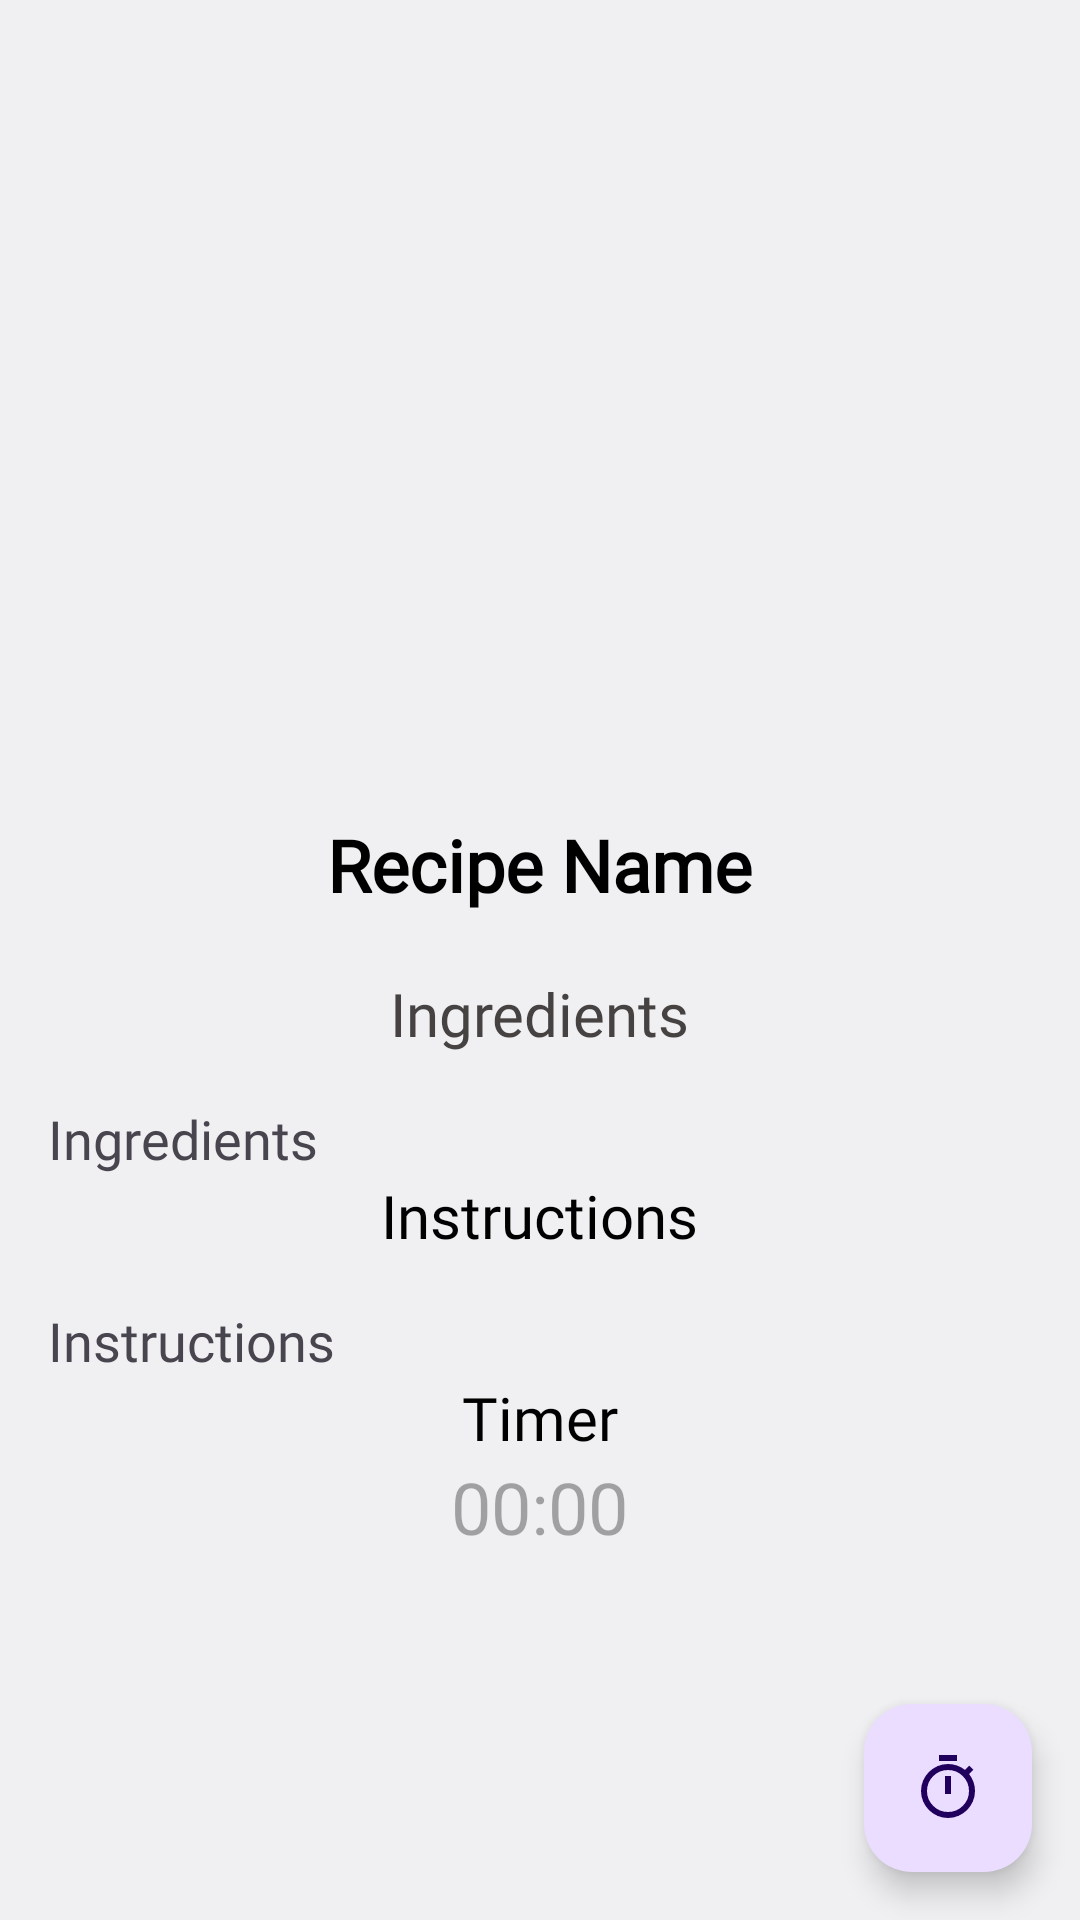

Icons on this 1080px×1920px Android screen, each with the point to tap as (x,y):
Timer: (948,1788)
